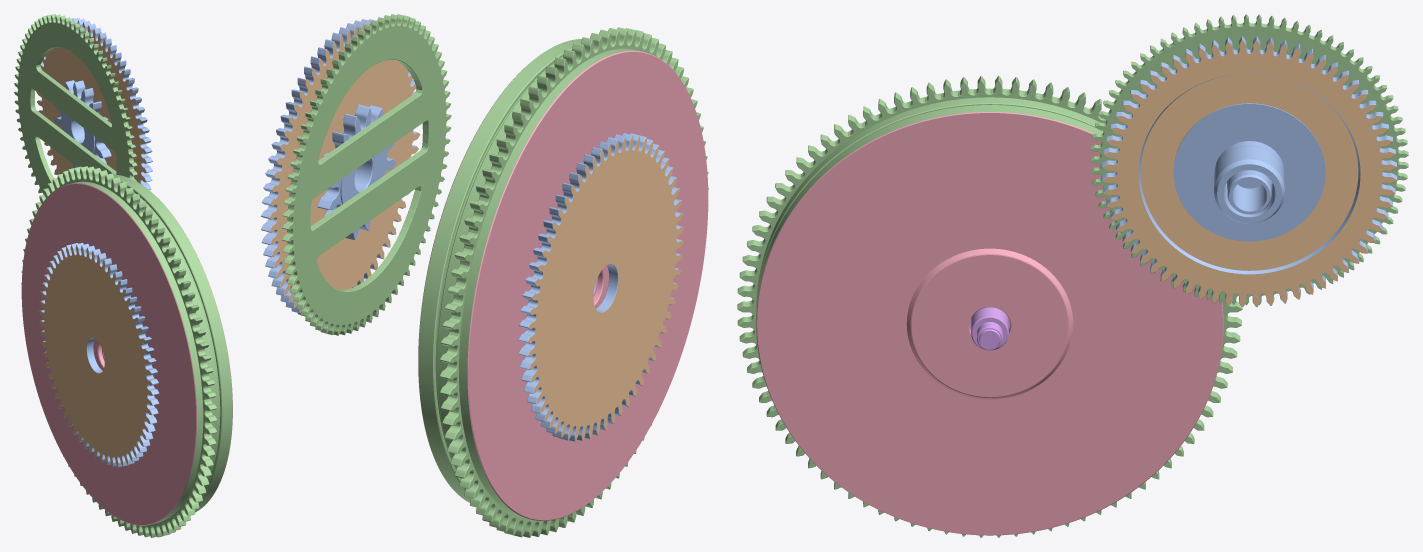
File: Modifs_V1_import.fbx
The picture shows the model from 3 angles, left to right: view 1: azimuth 30°, elevation 25°; view 2: azimuth 150°, elevation 25°; view 3: azimuth 270°, elevation 25°; orthographic projection. The views are drawn at different scales.
Parts seen in each view (by area): view 1: P6, P5, P14, P17, P8; view 2: P6, P5, P14, P17, P8; view 3: P8, P17, P6, P14, P7.
Boxes of the visible parts, x1,y1,x2,y2 form: P6: (21,166,219,537); P5: (38,242,159,467); P14: (14,14,137,194); P17: (36,18,152,189); P8: (113,174,232,512); P6: (437,27,708,537); P5: (518,133,683,441); P14: (282,14,451,335); P17: (261,19,420,314); P8: (418,39,581,502); P8: (756,105,1223,535); P17: (1102,36,1397,307); P6: (737,76,1242,537); P14: (1090,14,1408,305); P7: (969,307,1008,350).
Bounding box in the file's own units: 0.7842 × 2.35 × 2.58.
